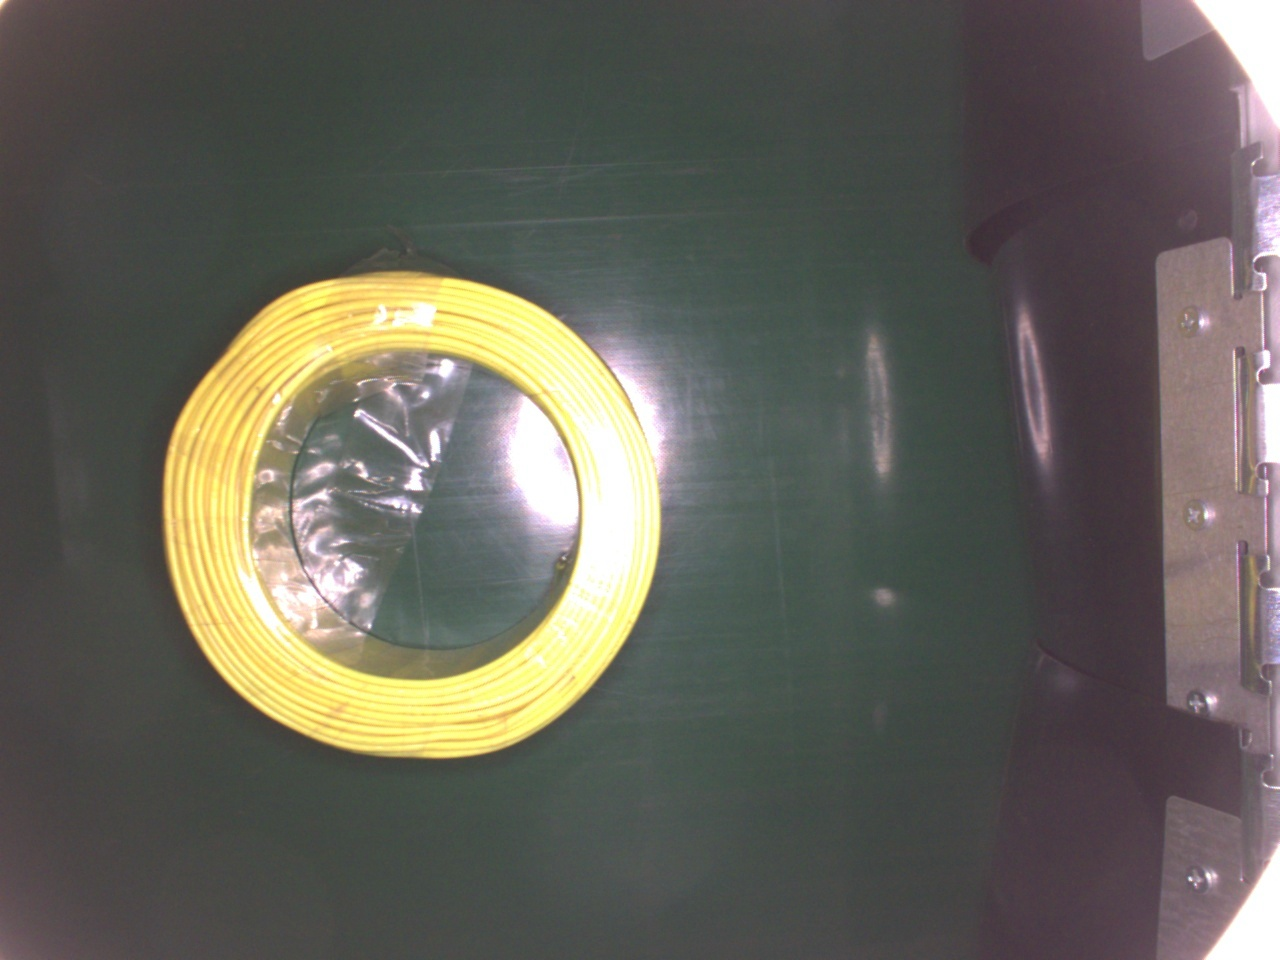yellow: (164, 262, 664, 762)
